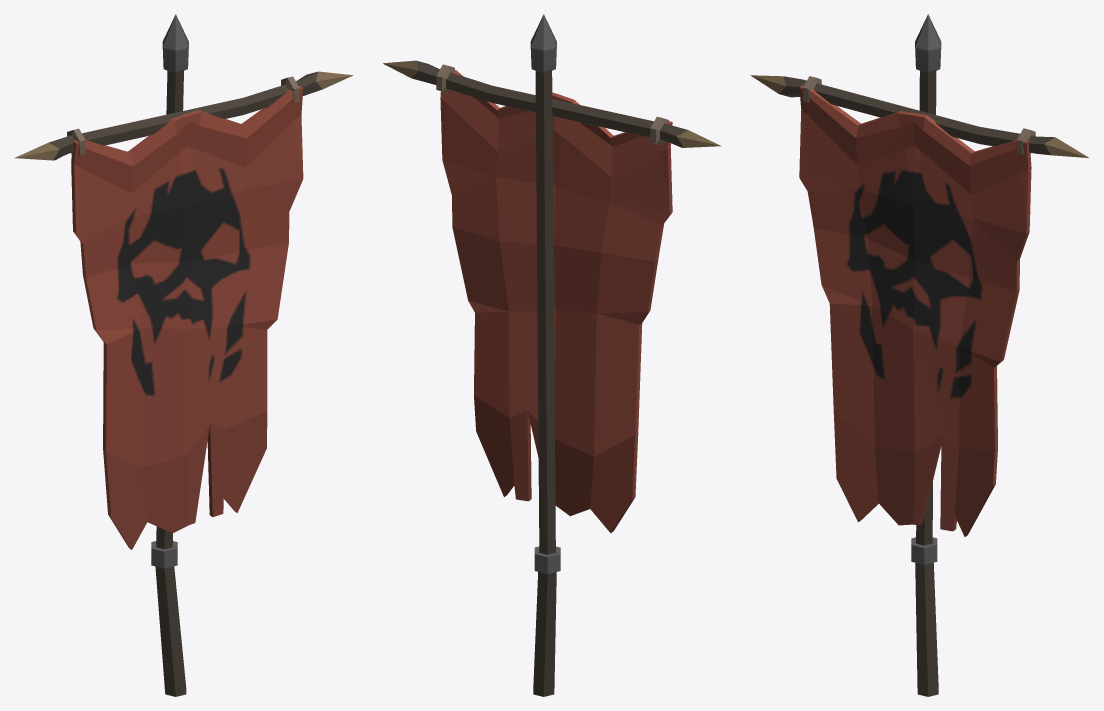
File: SM_Wep_Banner_02.glb
The picture shows the model from 3 angles, left to right: view 1: azimuth 30°, elevation 25°; view 2: azimuth 150°, elevation 25°; view 3: azimuth 330°, elevation 25°; orthographic projection.
Parts seen in each view (by area): view 1: SM_Wep_Banner_02; view 2: SM_Wep_Banner_02; view 3: SM_Wep_Banner_02.
Boxes of the visible parts, bbox=[...] form: SM_Wep_Banner_02: bbox=[14, 14, 352, 696]; SM_Wep_Banner_02: bbox=[383, 14, 721, 696]; SM_Wep_Banner_02: bbox=[750, 14, 1088, 696].
Bounding box in the file's own units: 0.0112 × 0.0214 × 0.00144.
1 material, 1 textured.
